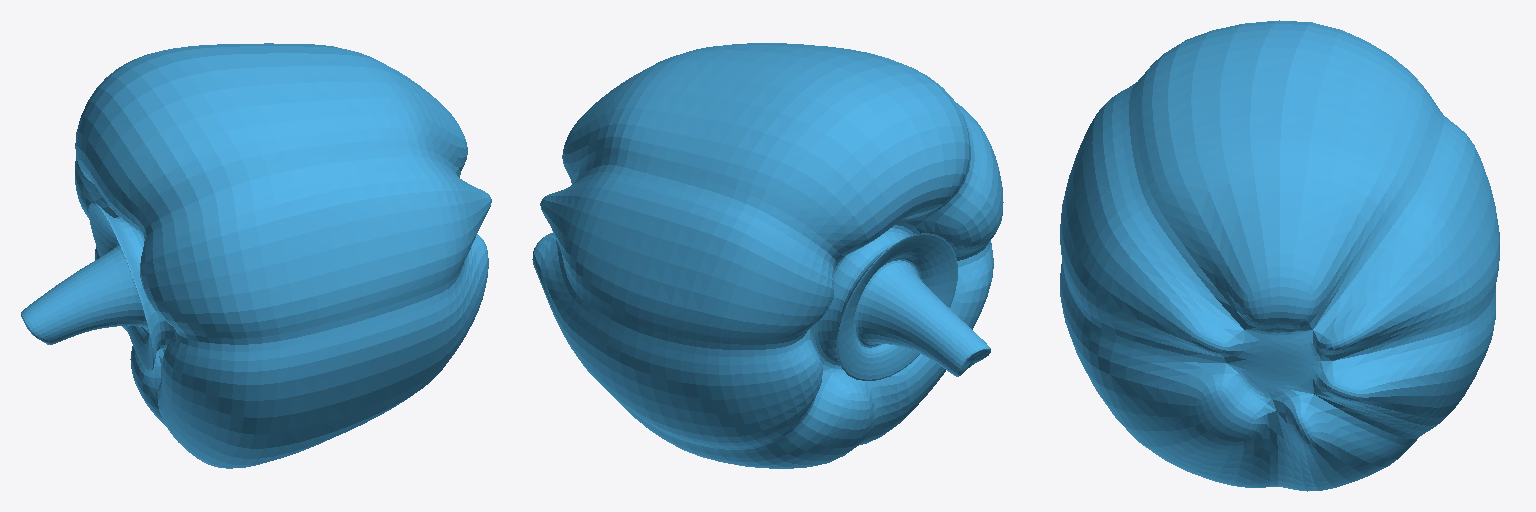
robot.urdf — free3dmodels_veggie_green_pepper:
<?xml version="1.0" ?>
<robot name="free3dmodels_veggie_green_pepper">
	<link name="base"/>
	<link name="link_1">
		<visual name="body-6">
			<origin xyz="0 0 0"/>
			<geometry>
				<mesh filename="greenpepper.obj"/>
			</geometry>
		</visual>
		<collision>
			<origin xyz="0 0 0"/>
			<geometry>
				<mesh filename="greenpepper.obj"/>
			</geometry>
		</collision>
	</link>
	<joint name="joint_1" type="fixed">
		<origin rpy="1.570796326794897 0 -1.570796326794897" xyz="0 0 0"/>
		<child link="link_1"/>
		<parent link="base"/>
	</joint>
</robot>

--- Render facts (derived) ---
3 views of the same robot in one strip: view 1: azimuth 30°, elevation 25°; view 2: azimuth 150°, elevation 25°; view 3: azimuth 270°, elevation 25° (orthographic).
Model free3dmodels_veggie_green_pepper with 2 links and 1 joints (1 fixed), rooted at base, posed all joints at 0.
Visible links, largest first — view 1: link_1; view 2: link_1; view 3: link_1.
Boxes of the visible links, left/top/right/bottom form: link_1: left=21, top=43, right=491, bottom=468; link_1: left=532, top=43, right=1003, bottom=468; link_1: left=1060, top=20, right=1499, bottom=491.
Bounding box of the posed robot: 191 × 162 × 165 m (x, y, z).
1 mesh visuals loaded from 1 distinct referenced files (1 OBJ).
